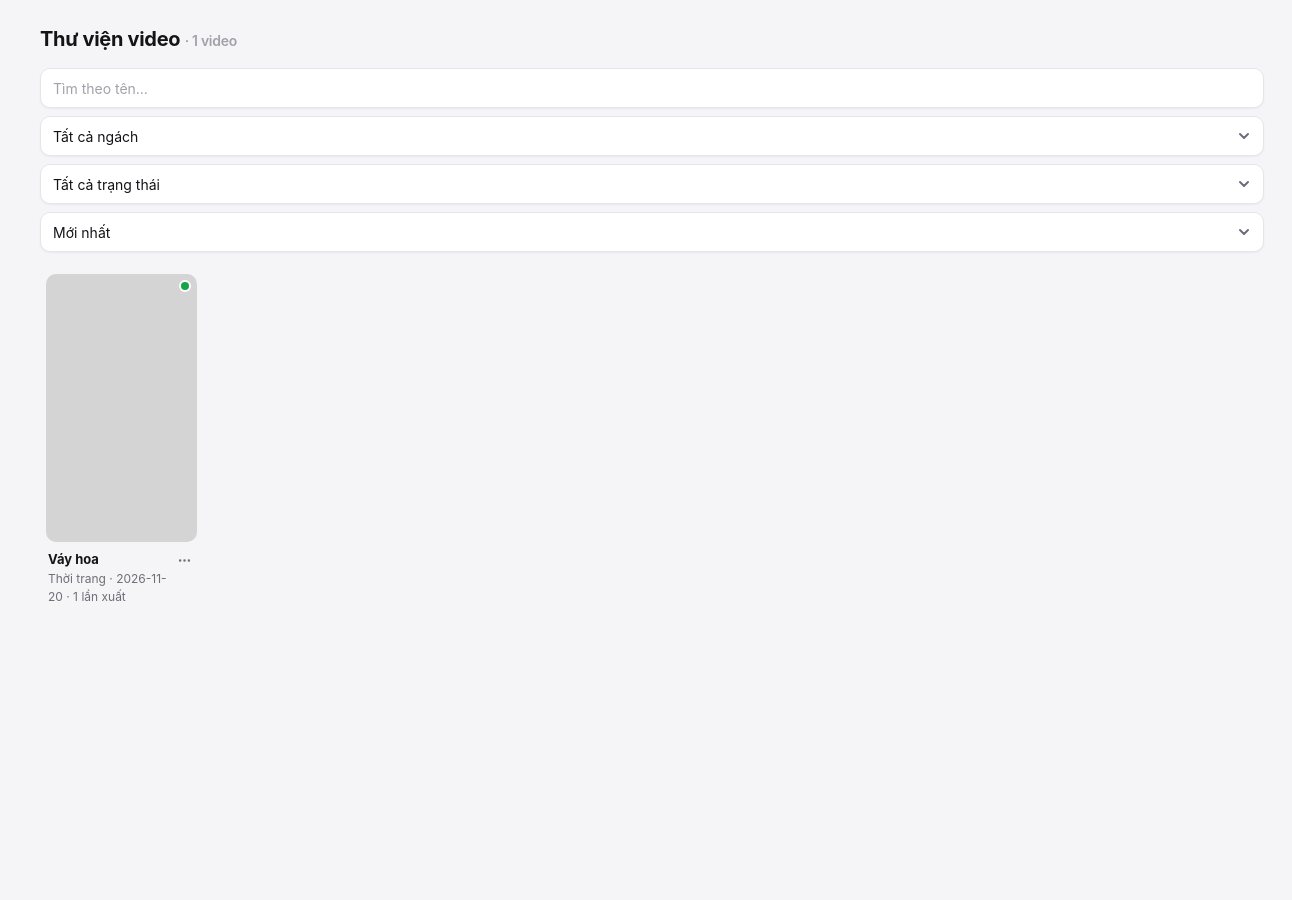
it: ⋯ button opens the menu without opening the project, by click and by Enter
This screenshot has width=1292, height=900.
Later steps or results of the test are not shown.
Expected: the text "Váy hoa" is shown, top-left (48, 551), bottom-right (99, 567)
Click the button named "Tuỳ chọn Váy hoa" at (185, 560), box top-left (173, 548), bottom-right (197, 572)
(page scrolled)
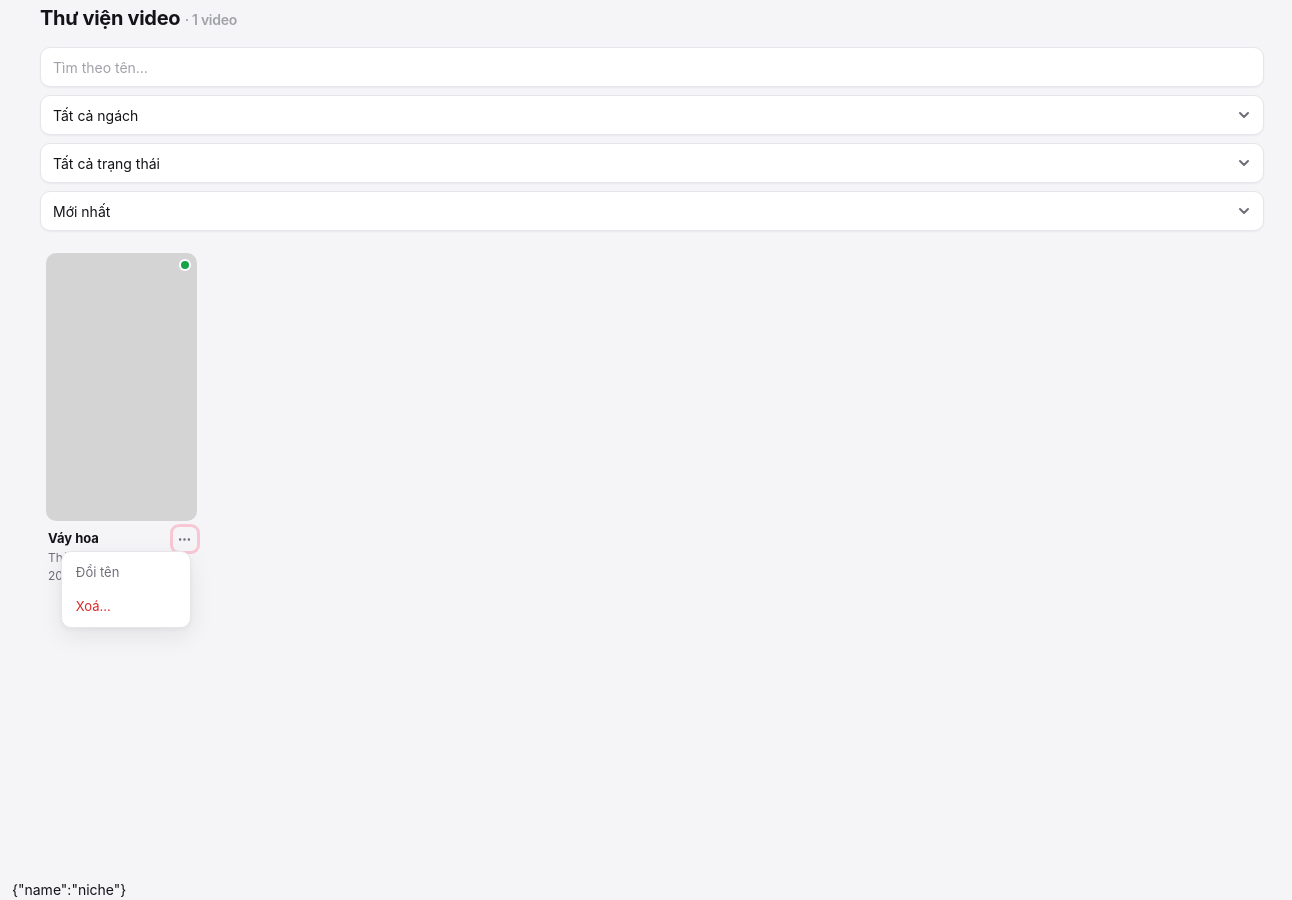
Now the menu is shown, box top-left (61, 551), bottom-right (191, 628)
